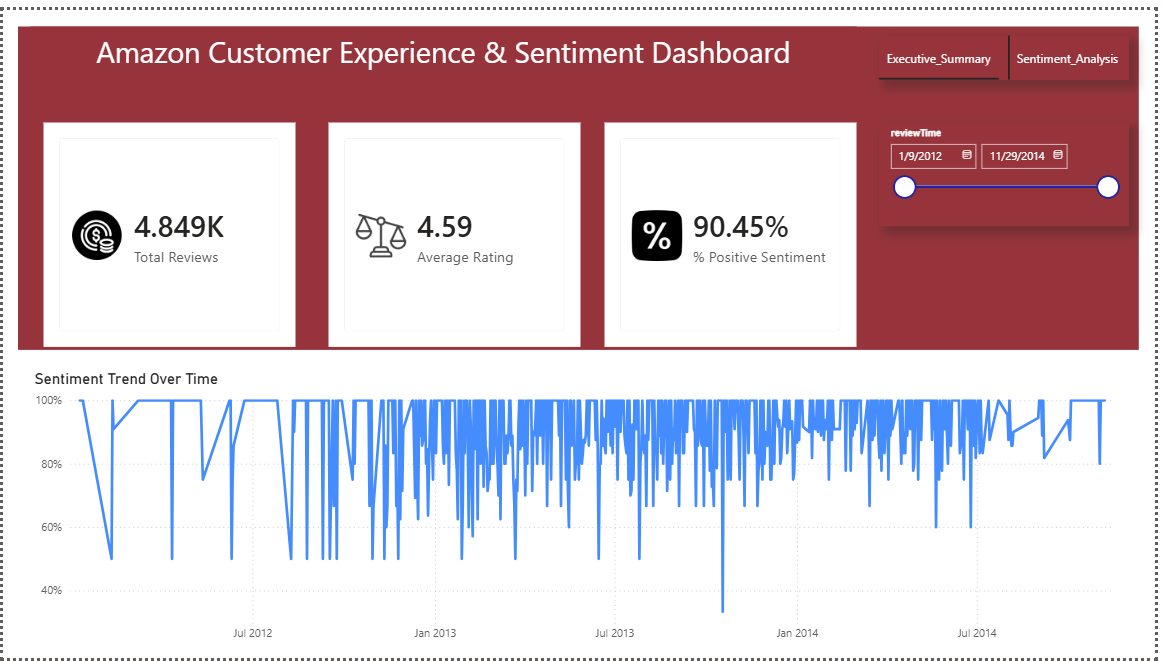

Layout of this report page (visuals, bound fields, positions):
{"tool":"powerbi","page":{"name":"Executive_Summary","canvas":[1280,720],"ordinal":0},"visuals":[{"type":"textbox","box":[17,18.9,1245.4,359.1],"z":0},{"type":"cardVisual","fields":{"Data":["CountNonNull(amazon_reviews.Column1)"]},"box":[45.4,124.7,279.7,249.5],"z":1000},{"type":"cardVisual","fields":{"Data":["Avg(amazon_reviews.overall)"]},"box":[360.9,124.7,279.7,249.5],"z":2000},{"type":"cardVisual","fields":{"Data":["amazon_reviews.% Positive Sentiment"]},"box":[669,124.7,279.7,249.5],"z":3000},{"type":"lineChart","title":"Sentiment Trend Over Time","fields":{"Y":["amazon_reviews.% Positive Sentiment"],"Category":["amazon_reviews.reviewTime"]},"box":[30.2,400.6,1220.8,309.9],"z":4000},{"type":"slicer","fields":{"Values":["amazon_reviews.reviewTime"]},"box":[973.6,124.5,277.3,115.5],"z":5000},{"type":"pageNavigator","box":[973.2,28.3,277.8,49.1],"z":6000},{"type":"textbox","box":[30.2,18.9,918.4,66.1],"z":7000}]}

Visuals, with their boxes in screenshot pixels (x1, y1, x2, y2), scaled from the page's 1280x720 canvas onto the 1162x661 screenshot:
textbox: region(15, 17, 1146, 347)
cardVisual - CountNonNull(amazon_reviews.Column1): region(41, 114, 295, 344)
cardVisual - Avg(amazon_reviews.overall): region(328, 114, 582, 344)
cardVisual - amazon_reviews.% Positive Sentiment: region(607, 114, 861, 344)
"Sentiment Trend Over Time" lineChart: region(27, 368, 1136, 652)
slicer - amazon_reviews.reviewTime: region(884, 114, 1136, 220)
pageNavigator: region(883, 26, 1136, 71)
textbox: region(27, 17, 861, 78)
